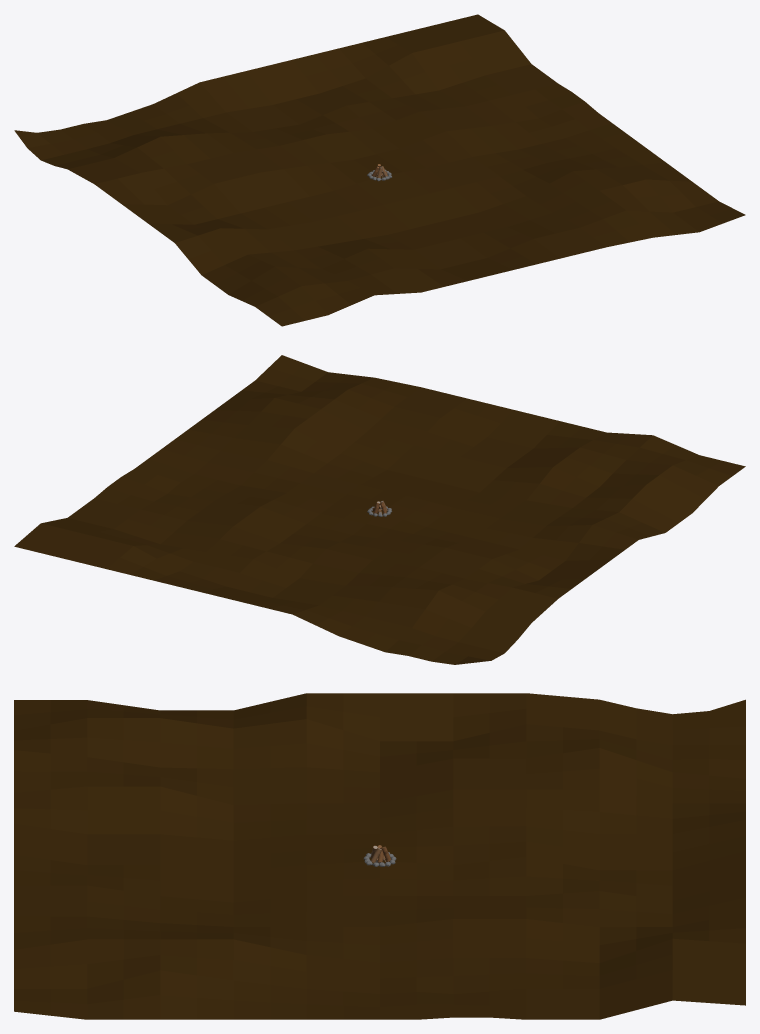
The model's file is campfire-mud.glb.
3 renders of one model, top to bottom at view 1: azimuth 30°, elevation 25°; view 2: azimuth 150°, elevation 25°; view 3: azimuth 270°, elevation 25°, orthographic. The views are drawn at different scales.
Visible parts, largest first — view 1: Plane; view 2: Plane; view 3: Plane.
Boxes of the visible parts, <box> form: Plane: <box>14,14,745,326</box>; Plane: <box>14,355,745,664</box>; Plane: <box>14,693,745,1019</box>.
Bounding box in the file's own units: 281 × 13.18 × 281.
